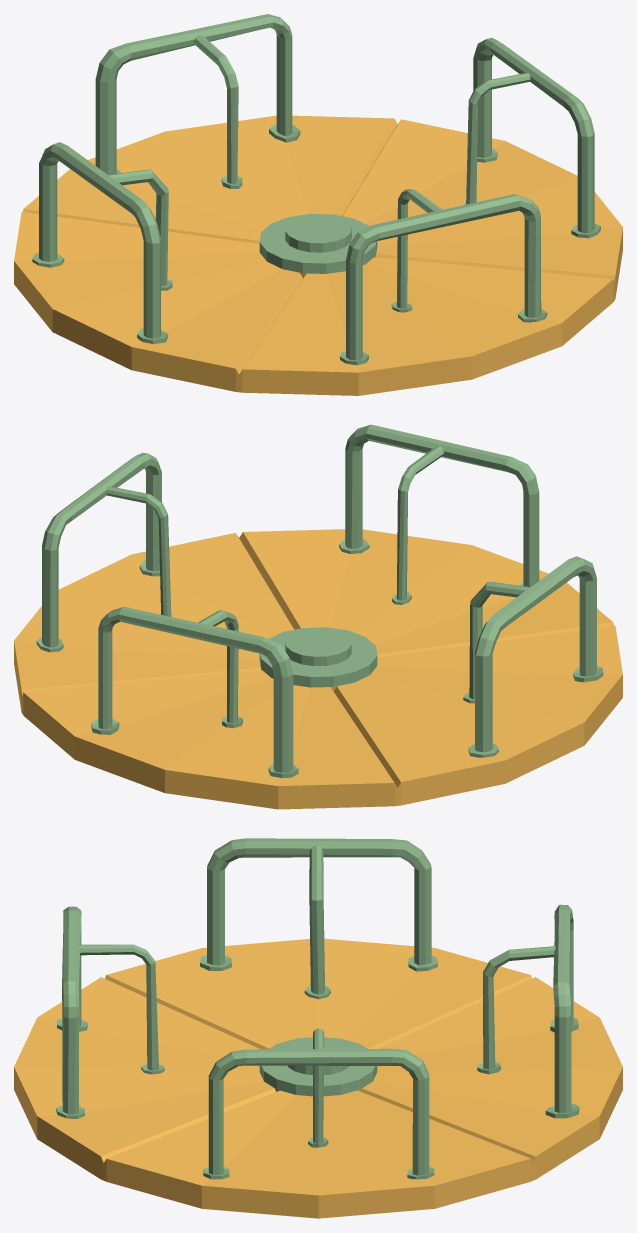
File: playground_spinner.fbx
The picture shows the model from 3 angles, top to bottom: view 1: azimuth 30°, elevation 25°; view 2: azimuth 150°, elevation 25°; view 3: azimuth 270°, elevation 25°; orthographic projection.
Visible parts, largest first — view 1: Cylinder.001; view 2: Cylinder.001; view 3: Cylinder.001.
Boxes of the visible parts, left/top/right/bottom form: Cylinder.001: left=14, top=14, right=622, bottom=395; Cylinder.001: left=14, top=424, right=622, bottom=809; Cylinder.001: left=14, top=838, right=622, bottom=1218.
Bounding box in the file's own units: 1162 × 417 × 1162.
